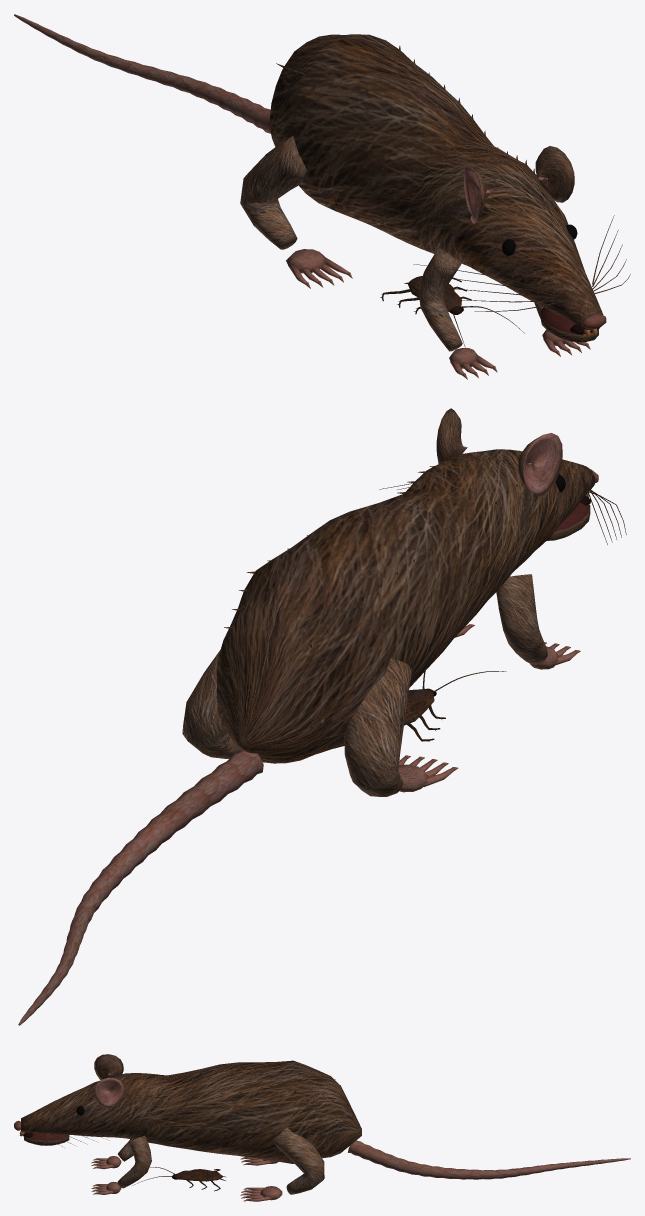
The model's file is vermin-v1.glb.
3 views of the same model, one above another, from view 1: azimuth 30°, elevation 25°; view 2: azimuth 150°, elevation 25°; view 3: azimuth 270°, elevation 25° (orthographic). The views are drawn at different scales.
Visible parts, largest first — view 1: Rat, Cockroach; view 2: Rat, Cockroach; view 3: Rat, Cockroach.
Part boxes in pixels (x1,y1,x2,y2): Rat: [14, 14, 630, 379]; Cockroach: [380, 276, 524, 347]; Rat: [18, 408, 626, 1025]; Cockroach: [404, 671, 506, 741]; Rat: [14, 1054, 630, 1201]; Cockroach: [132, 1167, 225, 1191].
Size of the model in its own units: 0.1081 by 0.1059 by 0.5047.
1 material, 1 textured.
